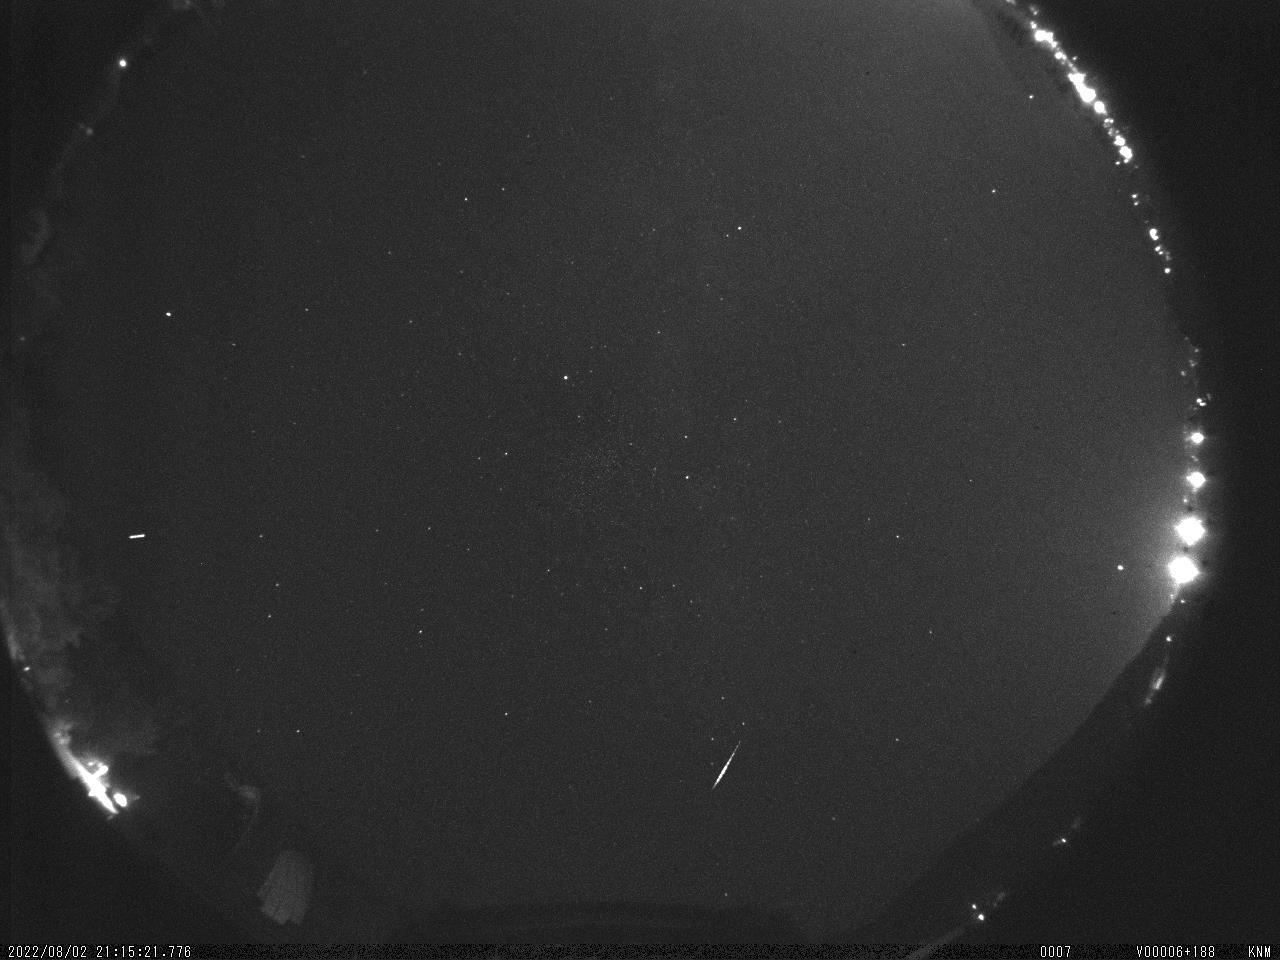Meteor: (709, 738, 744, 792)
